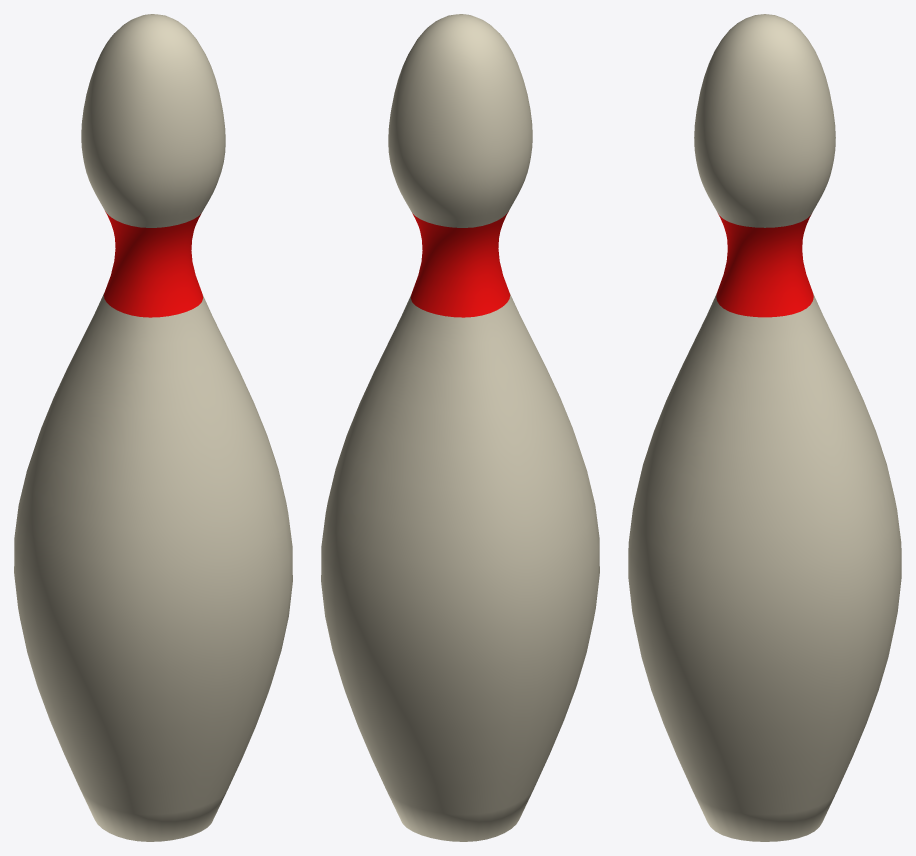
The model's file is pin.gltf.
3 views of the same model, side by side, from view 1: azimuth 30°, elevation 25°; view 2: azimuth 150°, elevation 25°; view 3: azimuth 270°, elevation 25° (orthographic).
Parts seen in each view (by area): view 1: pin; view 2: pin; view 3: pin.
Part boxes in pixels (left/top/right/bottom): pin: left=14, top=14, right=292, bottom=841; pin: left=321, top=14, right=599, bottom=841; pin: left=628, top=14, right=901, bottom=841.
Size of the model in its own units: 0.1177 by 0.38 by 0.1177.
1 material, 1 textured.
